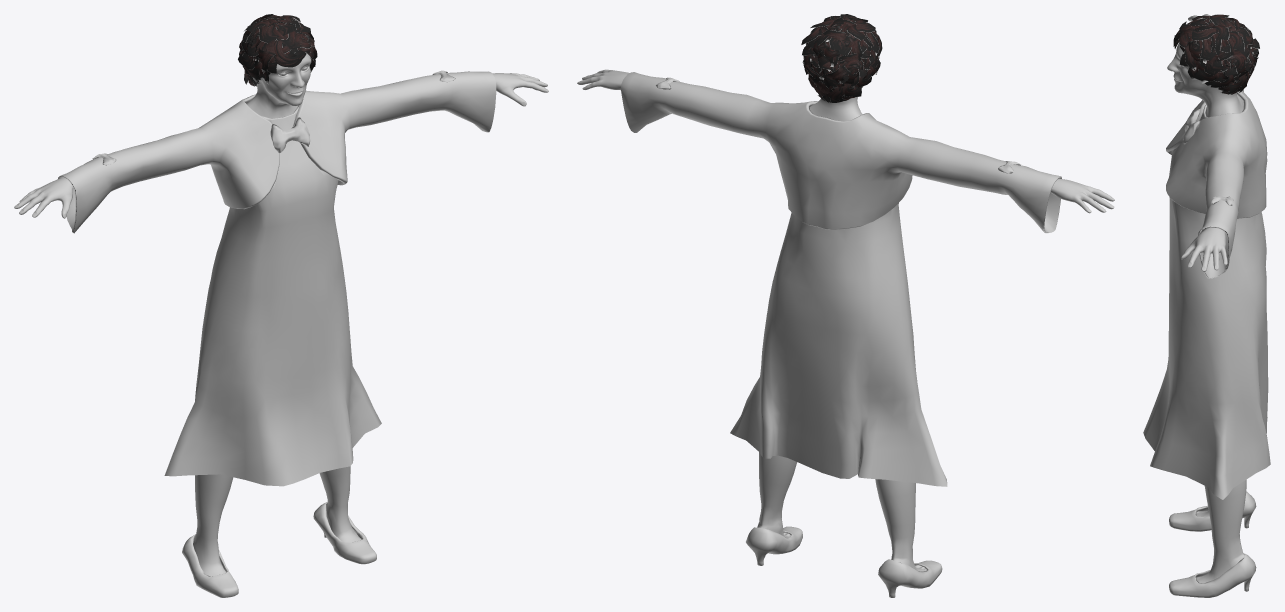
File: UmbridgeFull.fbx
3 views of the same model, side by side, from view 1: azimuth 30°, elevation 25°; view 2: azimuth 150°, elevation 25°; view 3: azimuth 270°, elevation 25° (orthographic).
Parts seen in each view (by area): view 1: Umbridge; view 2: Umbridge; view 3: Umbridge.
Boxes of the visible parts, <box> form: Umbridge: <box>14,14,548,597</box>; Umbridge: <box>577,14,1114,597</box>; Umbridge: <box>1143,14,1270,597</box>.
Bounding box in the file's own units: 1514 × 320 × 1497.
